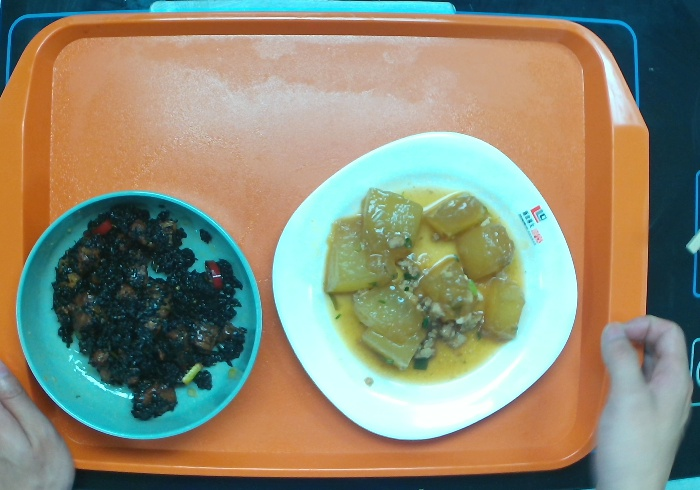ZNLD-Qing_Hua_Yuan_Wan: (9, 181, 274, 450)
ZNLD-Yuan_Jiao_Pan: (266, 110, 589, 451)
